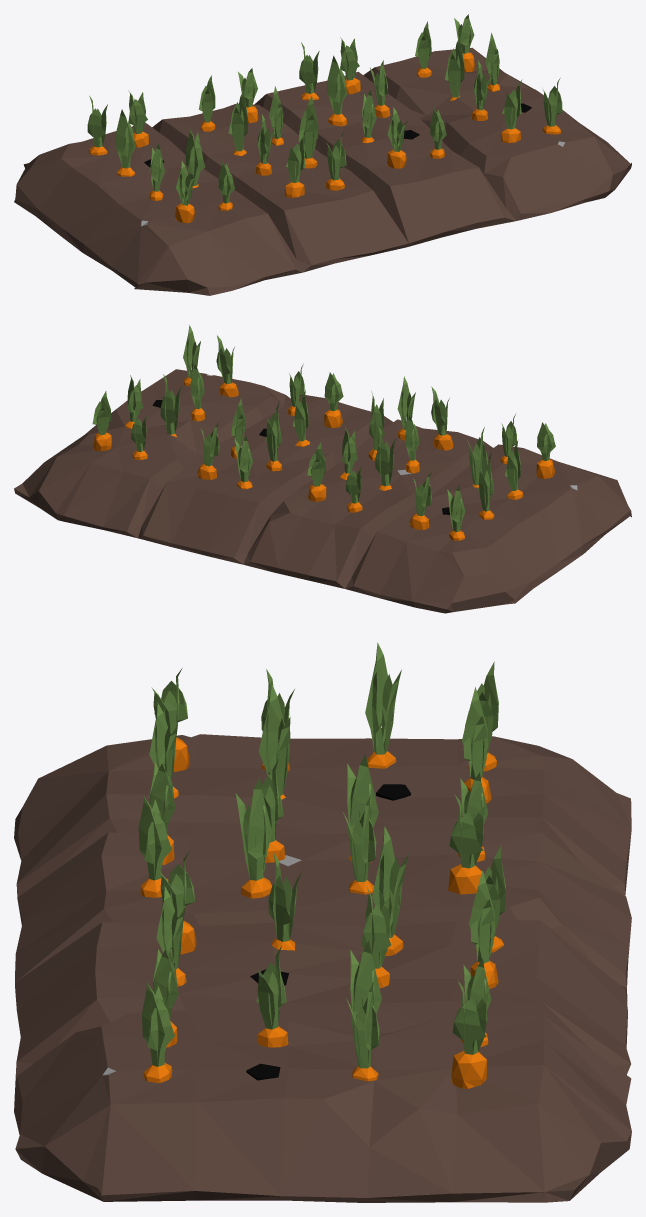
The model's file is Carrots.fbx.
The picture shows the model from 3 angles, top to bottom: view 1: azimuth 30°, elevation 25°; view 2: azimuth 150°, elevation 25°; view 3: azimuth 270°, elevation 25°; orthographic projection. The views are drawn at different scales.
Visible parts, largest first — view 1: Garden, Carrots; view 2: Garden, Carrots; view 3: Garden, Carrots.
Part boxes in pixels (bbox=[...]): Garden: bbox=[14, 47, 631, 295]; Carrots: bbox=[87, 14, 562, 223]; Garden: bbox=[14, 369, 631, 613]; Carrots: bbox=[92, 325, 555, 540]; Garden: bbox=[14, 734, 631, 1202]; Carrots: bbox=[138, 642, 505, 1088].
Size of the model in its own units: 9.88 by 2.04 by 6.01.
